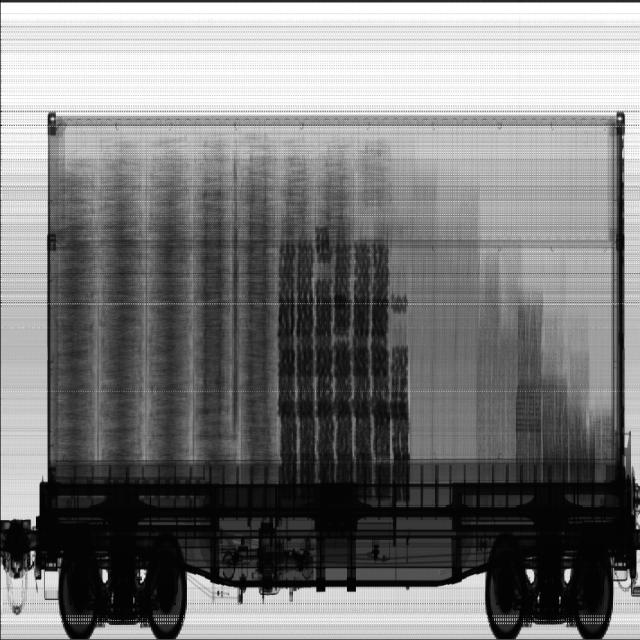tools: (279, 235, 411, 468)
toys: (51, 135, 391, 468)
